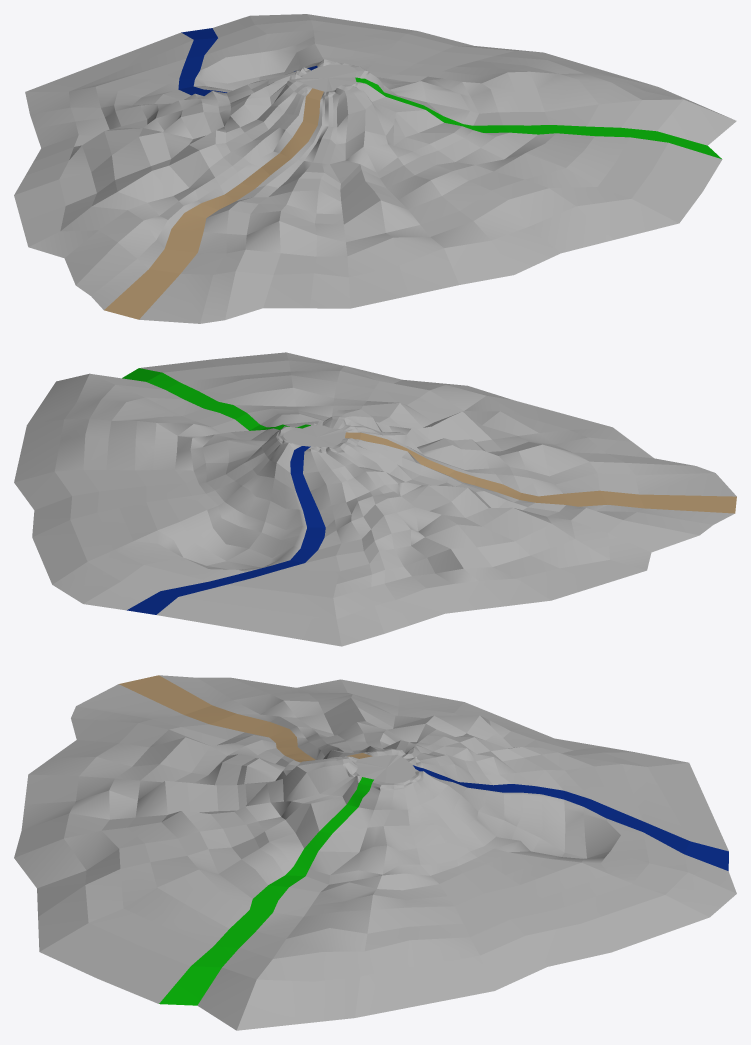
Rendered from main_hill_dome_a_0002.fbx.
The picture shows the model from 3 angles, top to bottom: view 1: azimuth 30°, elevation 25°; view 2: azimuth 150°, elevation 25°; view 3: azimuth 270°, elevation 25°; orthographic projection. The views are drawn at different scales.
Parts seen in each view (by area): view 1: pCube1; view 2: pCube1; view 3: pCube1.
Part boxes in pixels (x1,y1,x2,y2): pCube1: (14, 14, 736, 323); pCube1: (14, 352, 736, 646); pCube1: (14, 675, 736, 1030).
Bounding box in the file's own units: 24.28 × 2.85 × 20.87.
